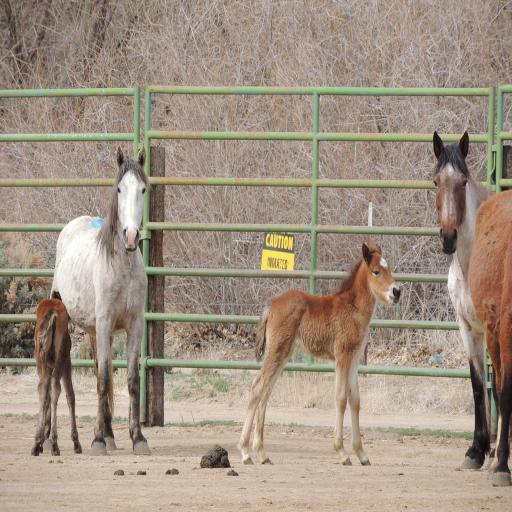horse: (236, 242, 403, 462), (49, 140, 156, 456), (429, 128, 496, 470), (468, 186, 512, 486), (30, 290, 83, 454)
